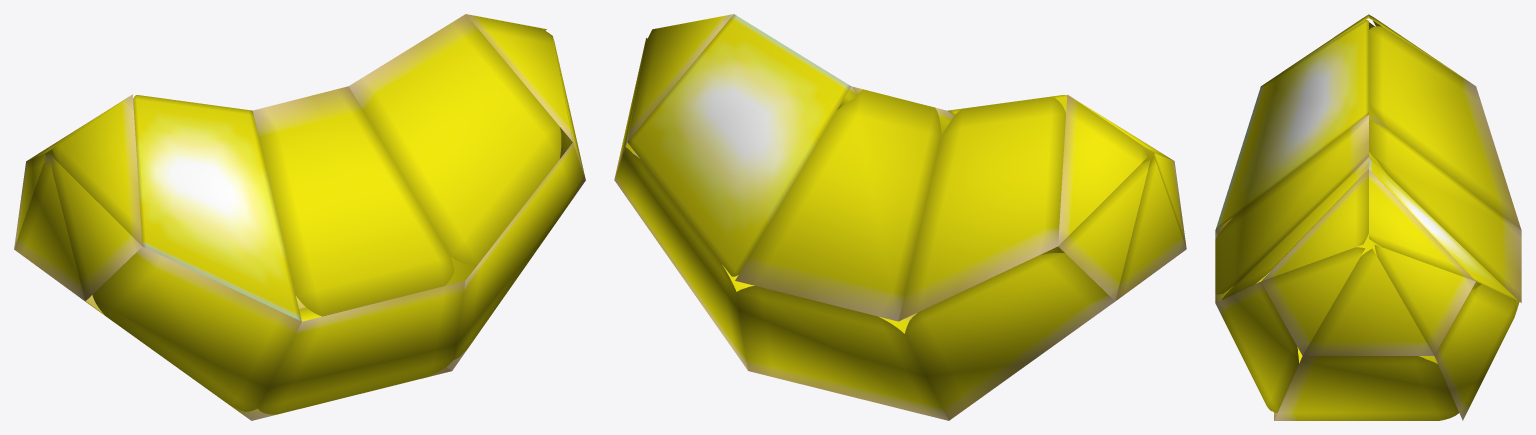
The picture shows the model from 3 angles, left to right: view 1: azimuth 30°, elevation 25°; view 2: azimuth 150°, elevation 25°; view 3: azimuth 270°, elevation 25°; orthographic projection. The views are drawn at different scales.
Visible parts, largest first — view 1: T1L4M001_6; view 2: T1L4M001_6; view 3: T1L4M001_6.
Boxes of the visible parts, box(x1,y1,x2,y2) form: T1L4M001_6: box(14, 14, 585, 420); T1L4M001_6: box(614, 14, 1186, 420); T1L4M001_6: box(1215, 14, 1521, 420).
Size of the model in its own units: 0.5547 by 0.3213 by 0.3154.
